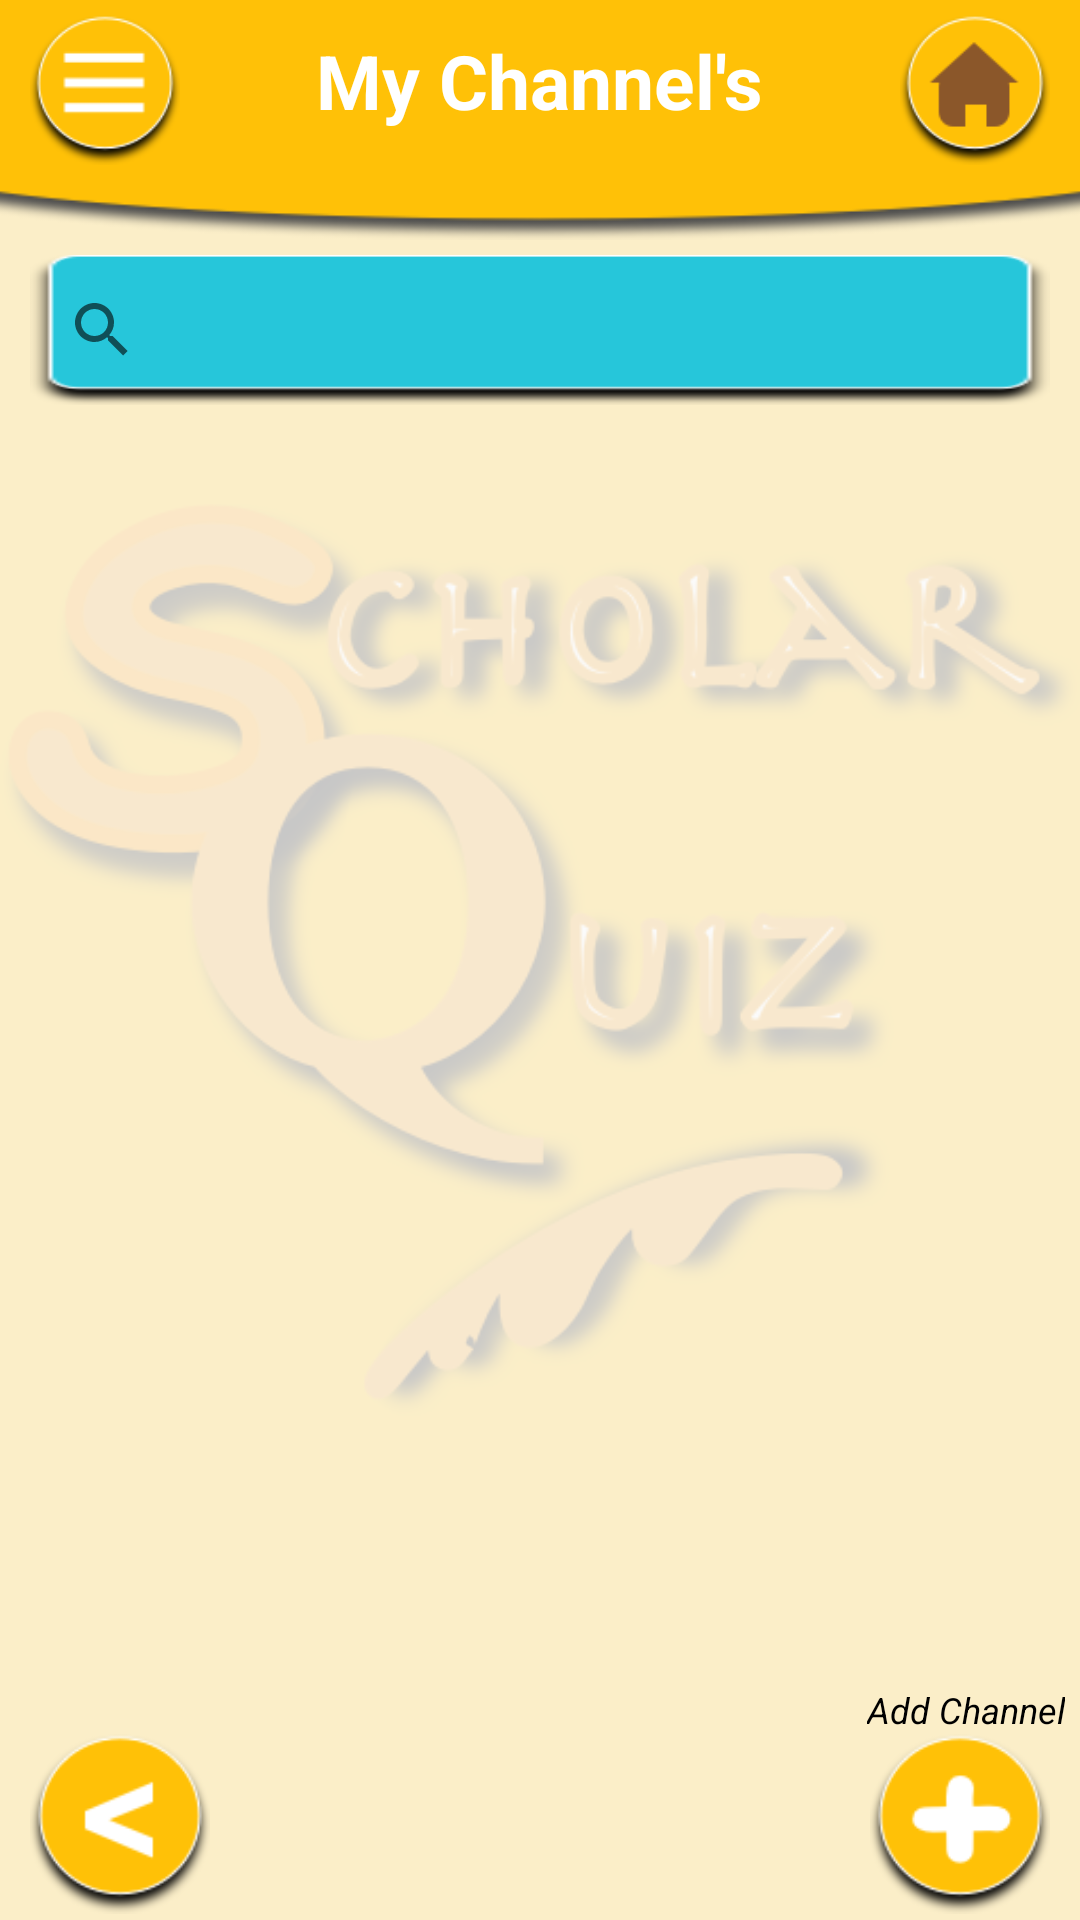

Named icons in this screenshot (1080*1920) and their centers, point (x, y):
backbutton: point (120, 1824)
home brown: point (975, 89)
menubutton: point (105, 89)
